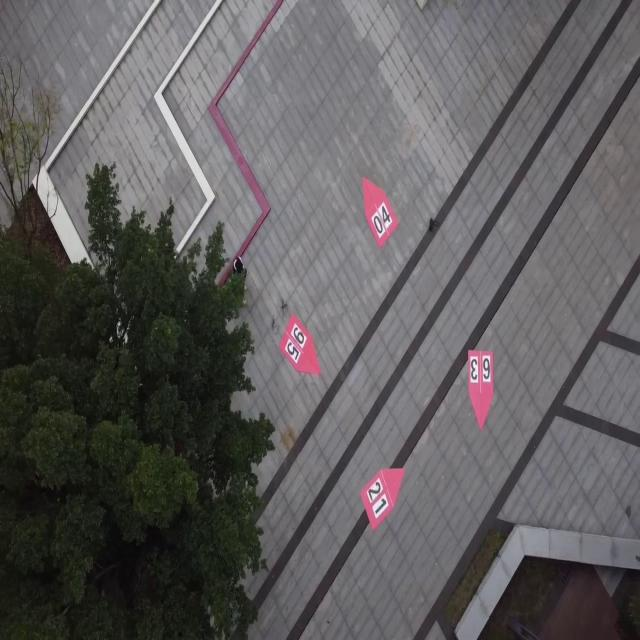-sign-: (361, 466, 405, 532), (279, 314, 321, 378), (363, 176, 399, 249), (468, 349, 494, 432)
